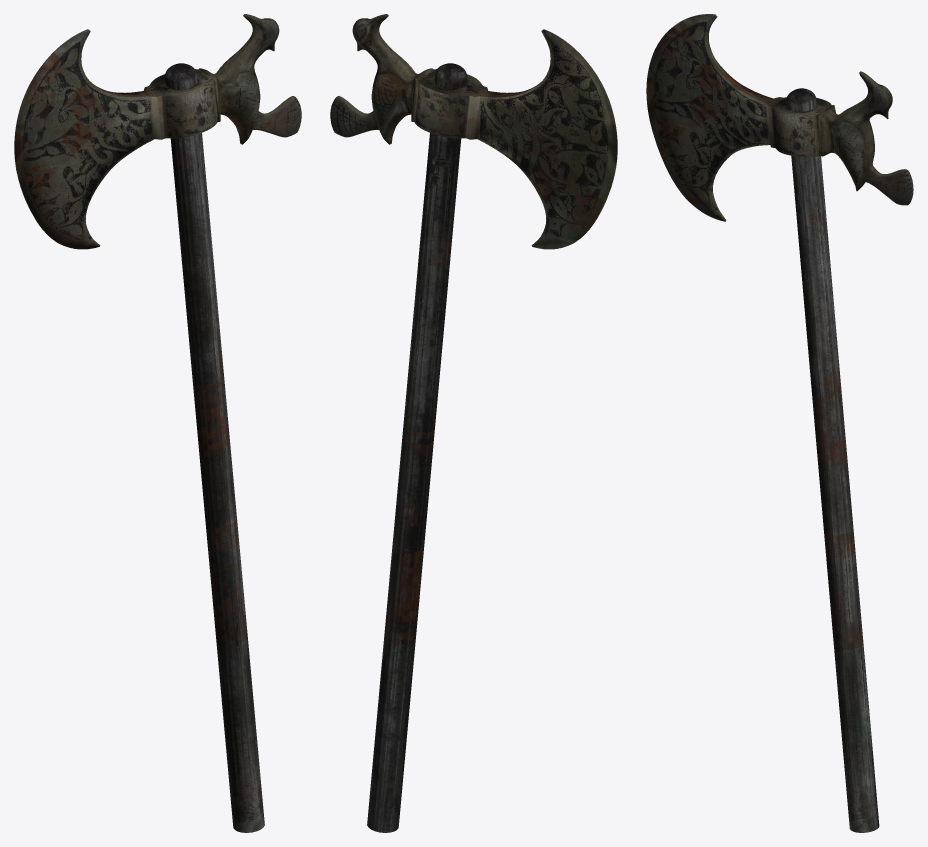
File: war_axe.glb
3 renders of one model, left to right at view 1: azimuth 30°, elevation 25°; view 2: azimuth 150°, elevation 25°; view 3: azimuth 330°, elevation 25°, orthographic. The views are drawn at different scales.
Visible parts, largest first — view 1: war_axe; view 2: war_axe; view 3: war_axe.
Boxes of the visible parts, left/top/right/bottom form: war_axe: left=14, top=14, right=301, bottom=832; war_axe: left=330, top=14, right=617, bottom=832; war_axe: left=646, top=14, right=913, bottom=832.
Size of the model in its own units: 0.3945 by 1.1 by 0.0616.
Materials: 1 (1 with a texture image).
